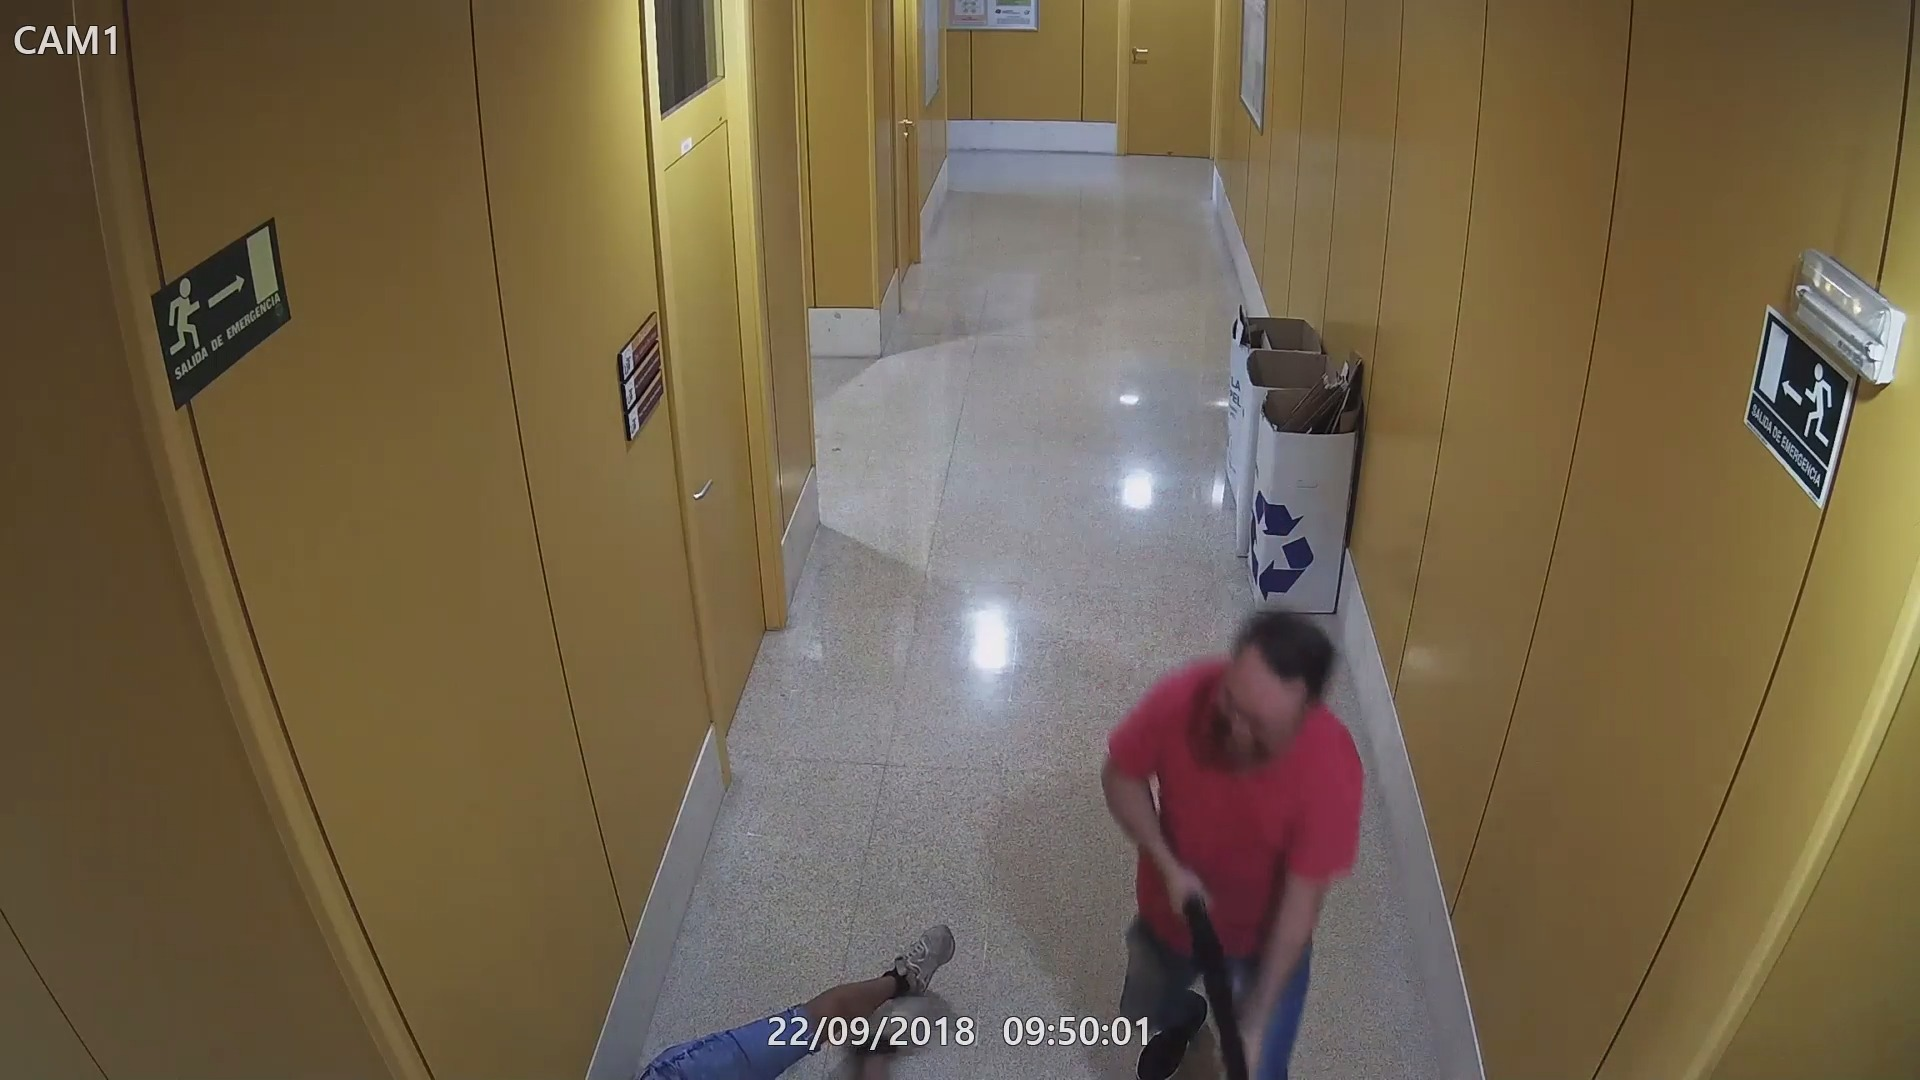rifle: (1160, 856, 1257, 1080)
